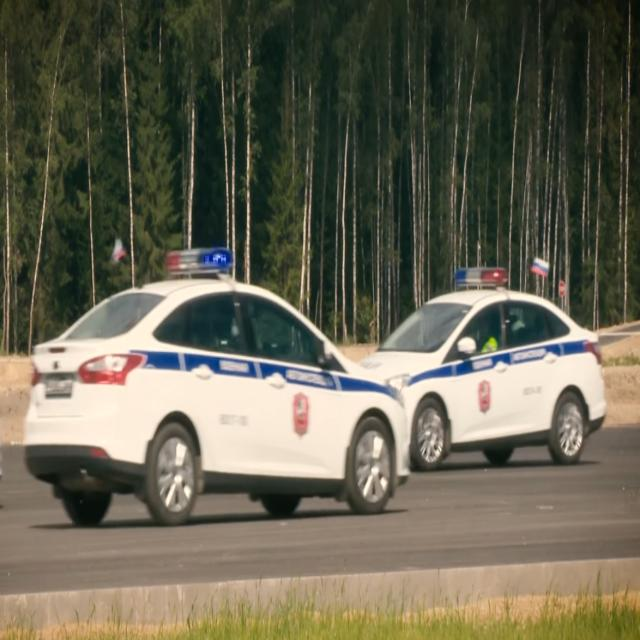police car: (20, 239, 414, 537), (353, 260, 614, 481)
